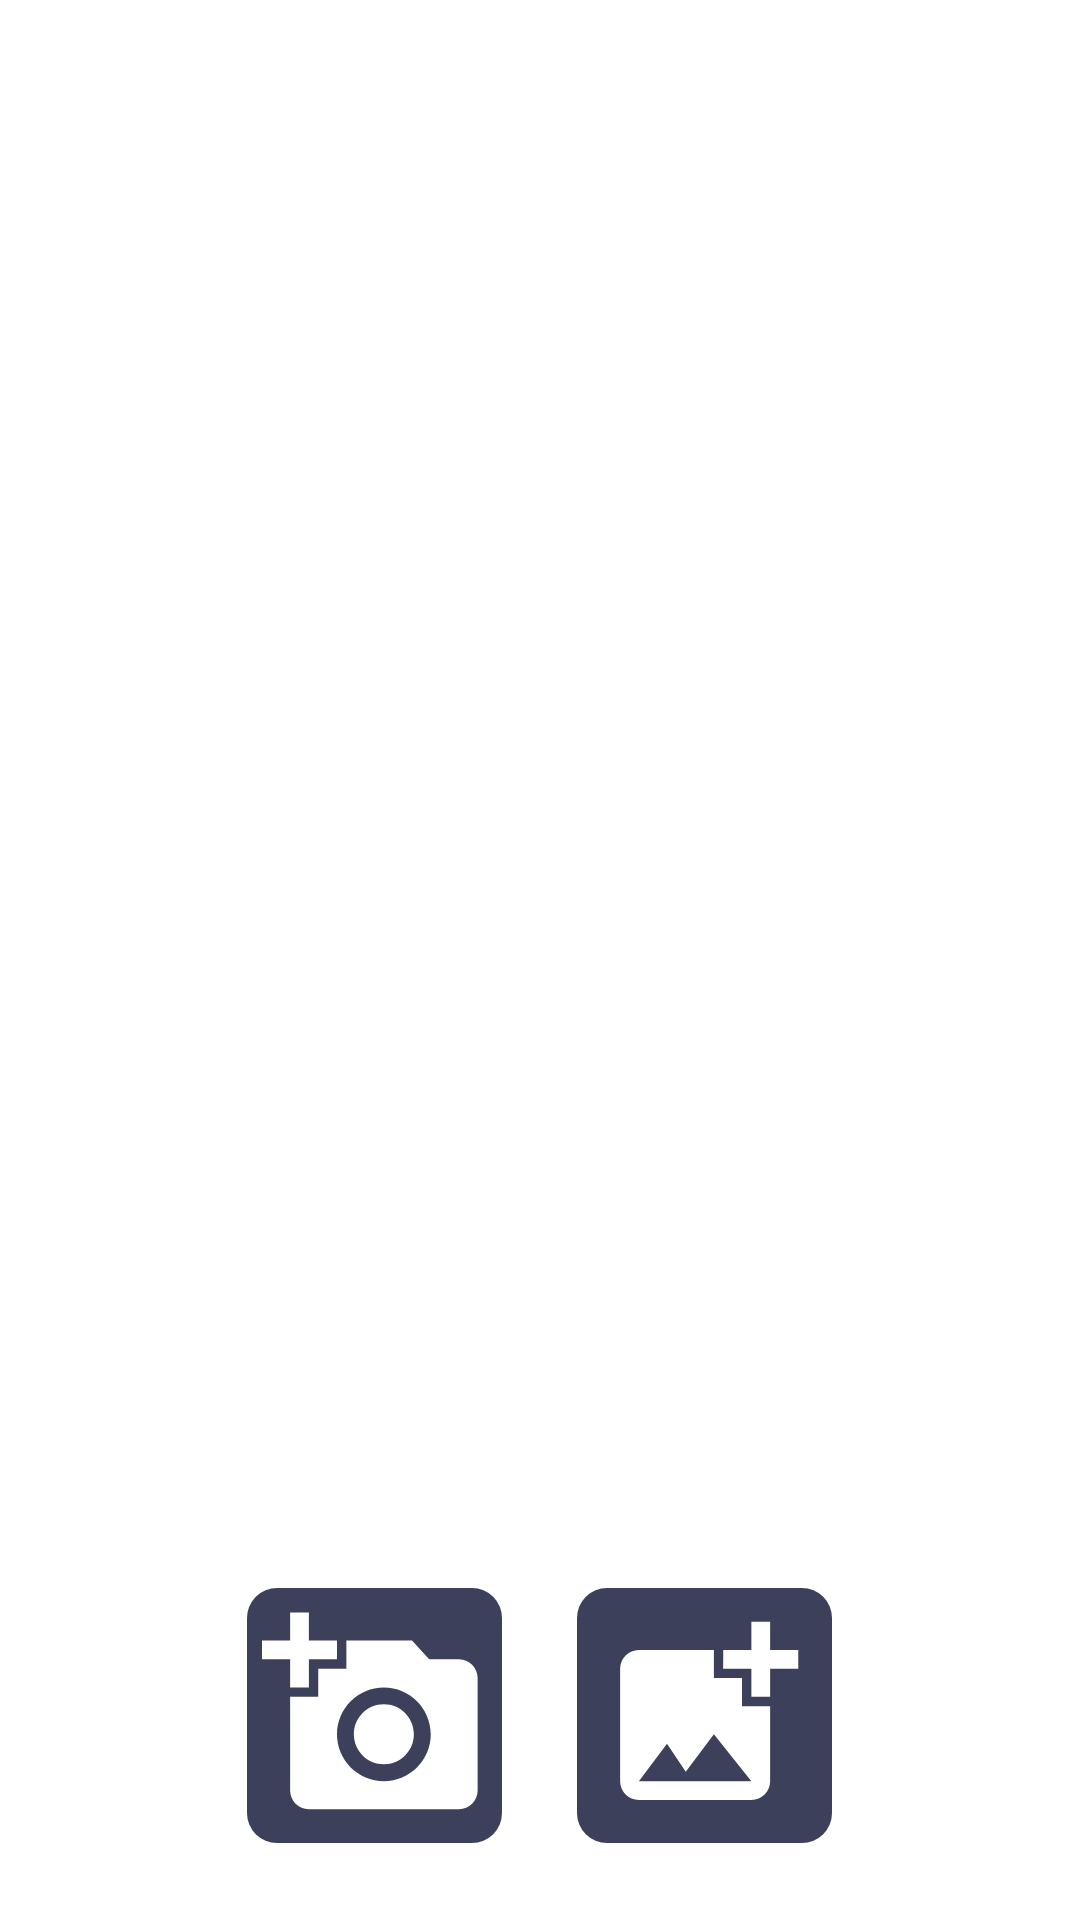

Point at icon controls on the screen. Image size 1080 x 1920, points as [x,y].
add photo: [374,1715]
add photo alternate: [704,1715]
